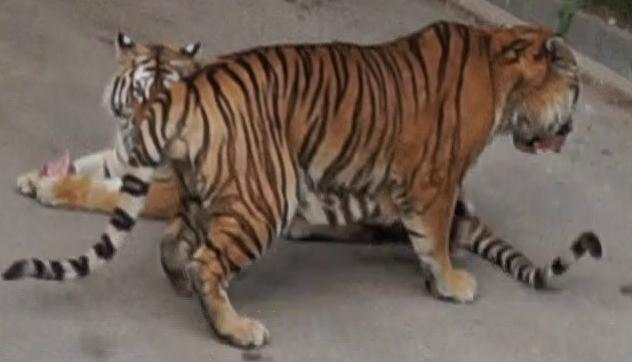tiger: (6, 21, 579, 346)
